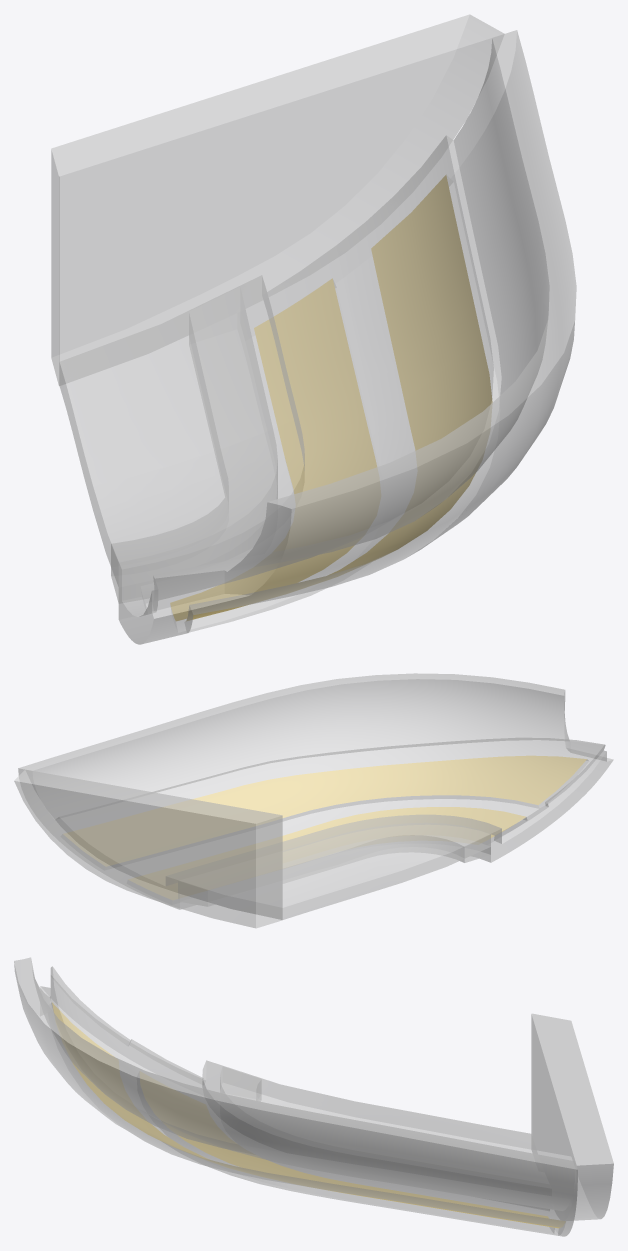
File: 镜向镜向双翼.fbx
The picture shows the model from 3 angles, top to bottom: view 1: azimuth 30°, elevation 25°; view 2: azimuth 150°, elevation 25°; view 3: azimuth 270°, elevation 25°; orthographic projection. The views are drawn at different scales.
Parts seen in each view (by area): view 1: <____>-<<__>-<__-__1>> (×2), <____>-<<__>-<__8>> (×2); view 2: <____>-<<__>-<__-__1>> (×2), <____>-<<__>-<__8>> (×2); view 3: <____>-<<__>-<__-__1>> (×2), <____>-<<__>-<__8>> (×2).
Boxes of the visible parts, x1=… form: <____>-<<__>-<__-__1>> (×2): x1=59, y1=30, x2=576, y2=644; <____>-<<__>-<__8>> (×2): x1=51, y1=14, x2=504, y2=603; <____>-<<__>-<__-__1>> (×2): x1=18, y1=673, x2=613, y2=919; <____>-<<__>-<__8>> (×2): x1=14, y1=769, x2=490, y2=928; <____>-<<__>-<__-__1>> (×2): x1=14, y1=957, x2=577, y2=1236; <____>-<<__>-<__8>> (×2): x1=220, y1=1013, x2=613, y2=1220.
Bounding box in the file's own units: 233 × 240 × 66.03.
